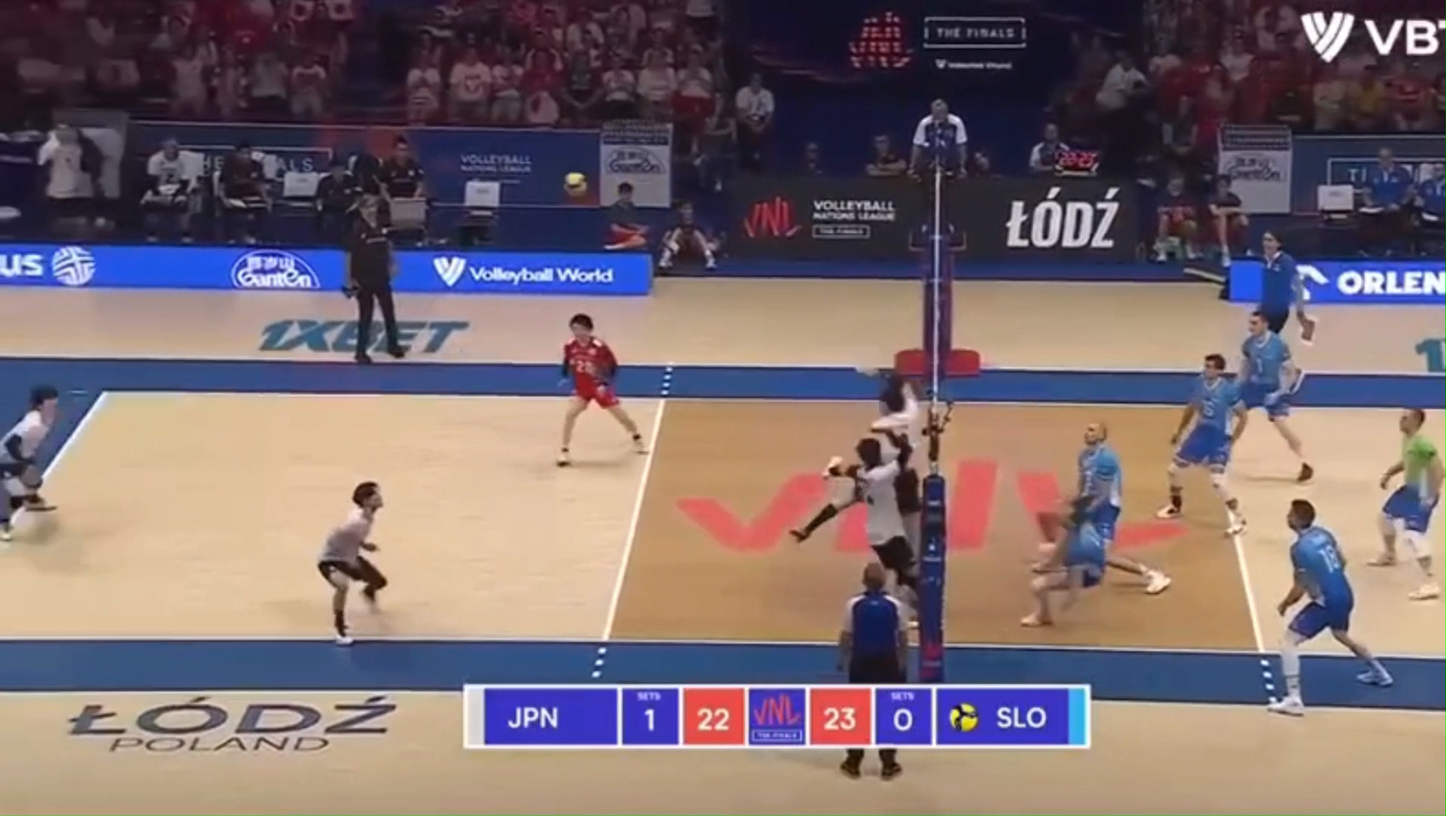ball: (564, 172, 588, 198)
player: (1267, 499, 1392, 716), (1156, 354, 1247, 536), (1371, 409, 1445, 600), (1235, 311, 1314, 483), (1021, 499, 1107, 626), (1076, 422, 1122, 550), (1107, 553, 1171, 595)
player 1: (557, 314, 645, 466), (317, 481, 388, 644), (854, 431, 916, 593), (0, 385, 57, 541), (789, 457, 870, 542), (879, 372, 919, 431)
referee: (344, 193, 406, 363), (910, 99, 968, 252), (839, 563, 908, 685), (1257, 232, 1301, 332), (1296, 309, 1314, 333)
